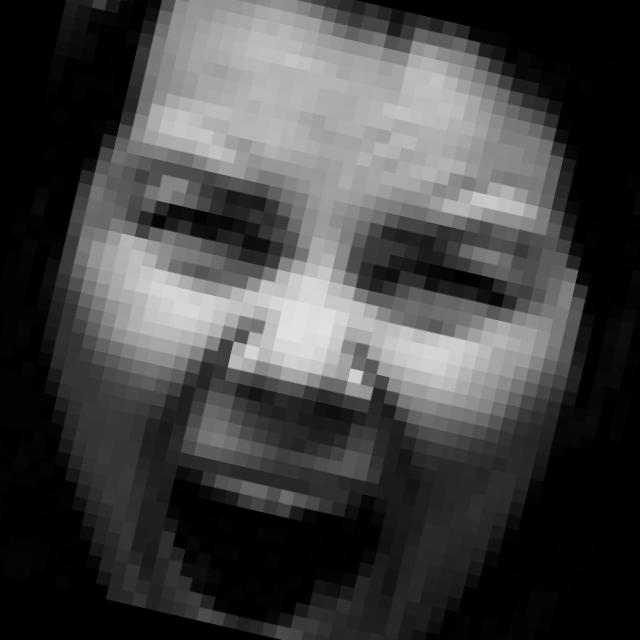angry: (36, 101, 555, 640)
